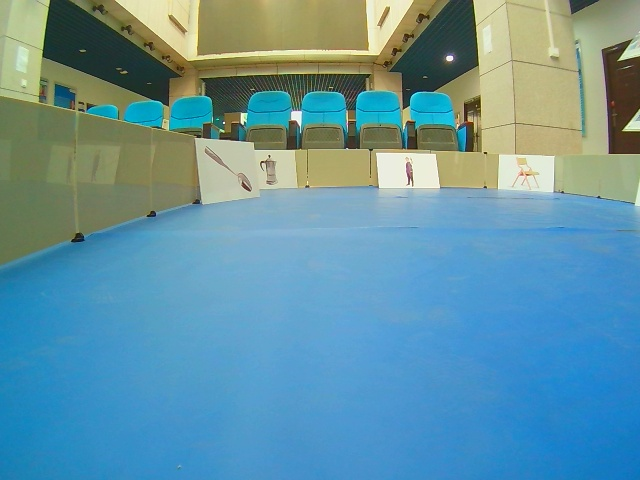dish: (195, 138, 262, 206), (256, 151, 299, 191)
person: (375, 153, 443, 191)
table: (496, 154, 556, 195)
